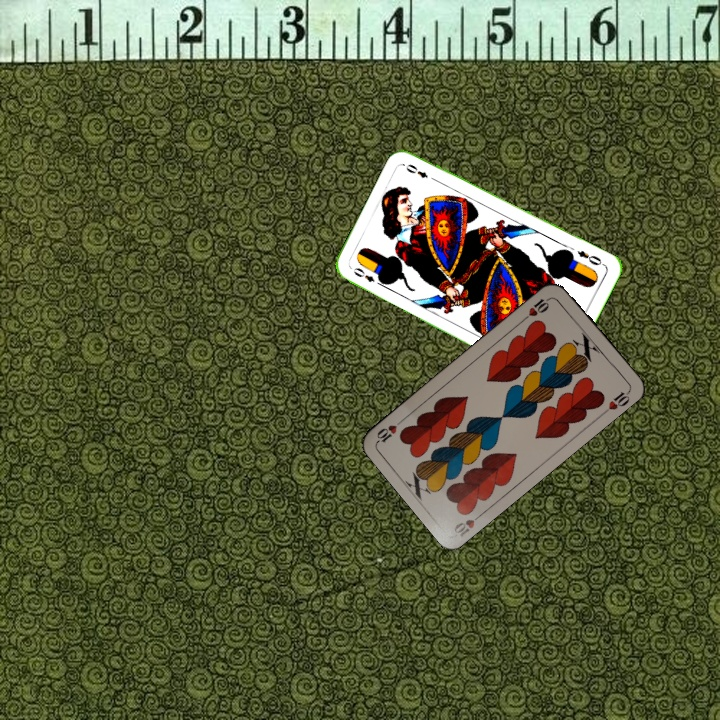EO: (573, 246, 608, 268), (349, 263, 377, 285)
H10: (449, 508, 487, 539), (519, 293, 553, 323)
